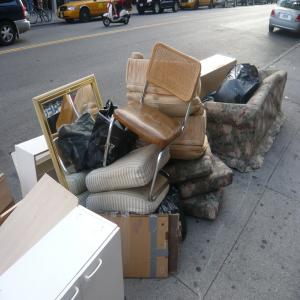Vehicle-registration-plate: (282, 14, 290, 19)
